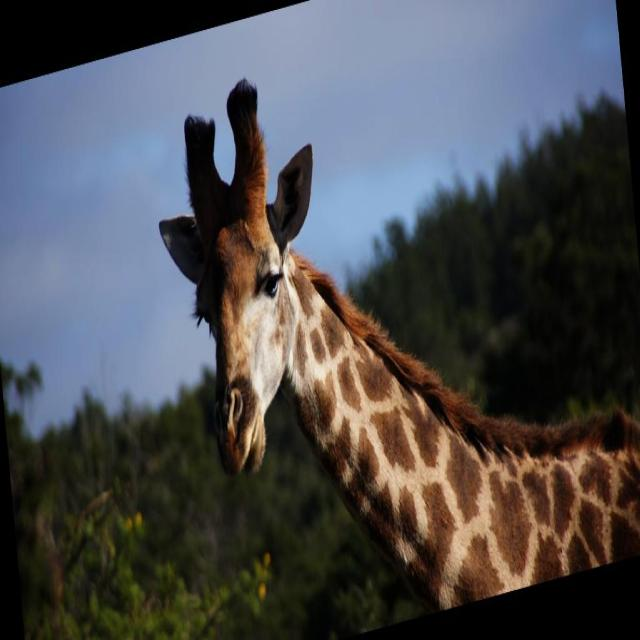Giraffe: (157, 67, 640, 602)
